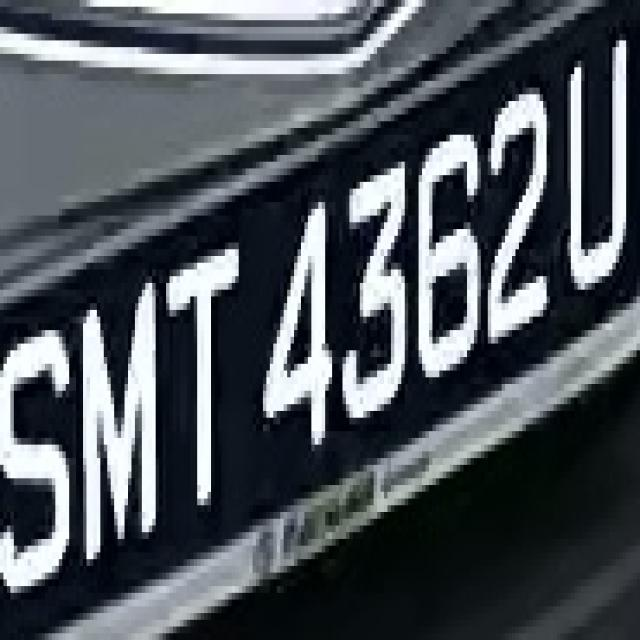2: (484, 81, 554, 377)
3: (336, 148, 415, 452)
4: (256, 168, 339, 465)
6: (408, 115, 495, 398)
M: (70, 276, 176, 559)
S: (4, 303, 76, 613)
T: (156, 250, 242, 526)
U: (567, 27, 630, 317)
